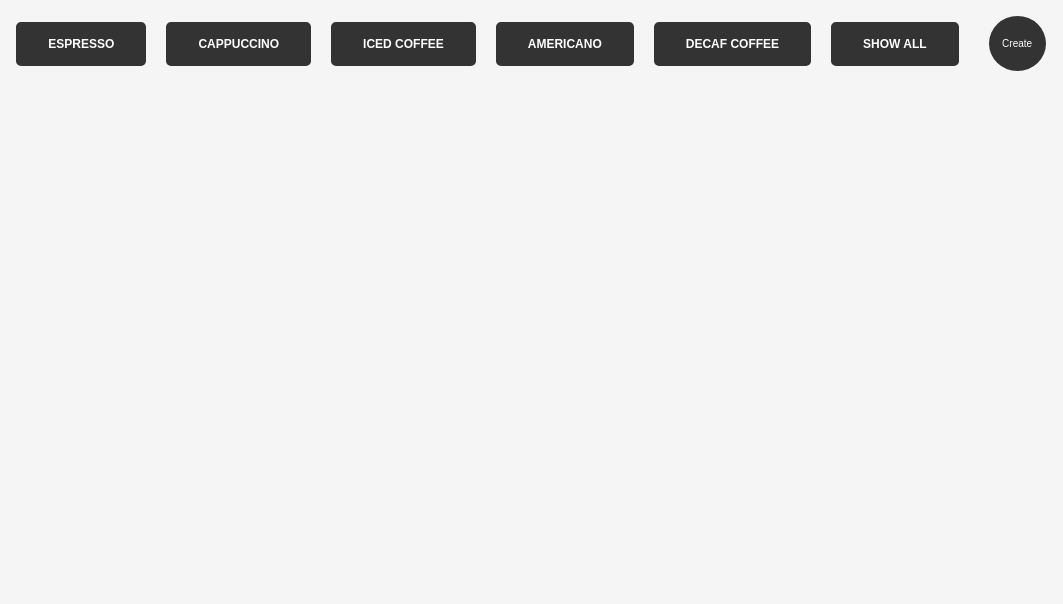
should show the create user form when button is clicked
Click the button with test id "add-coffee-button": (1017, 44) [989,16,1046,71]
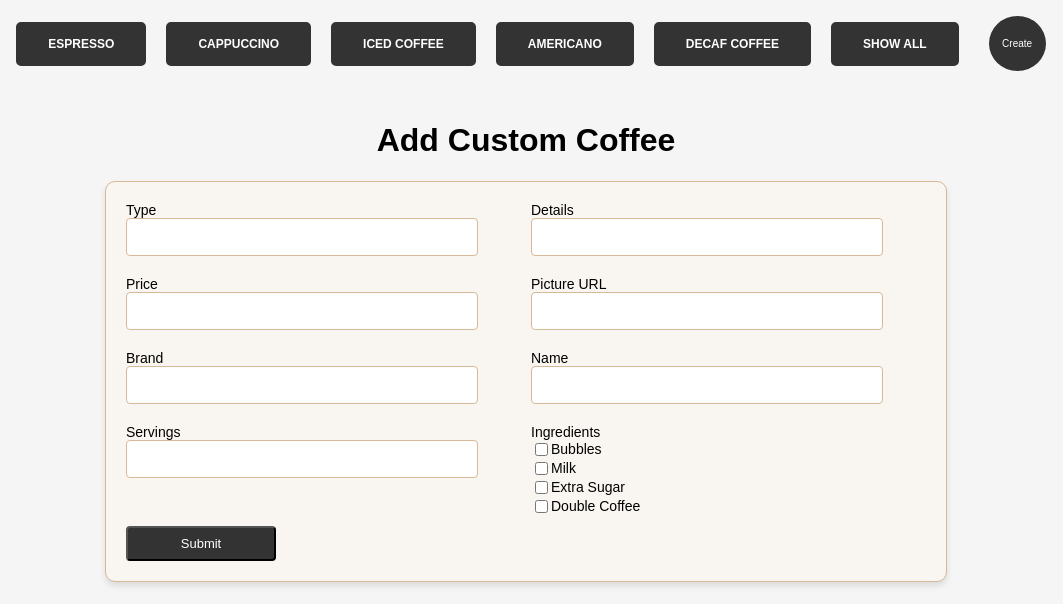
Now the form with test id "create-user-form" is shown, box [105,181,947,582]
